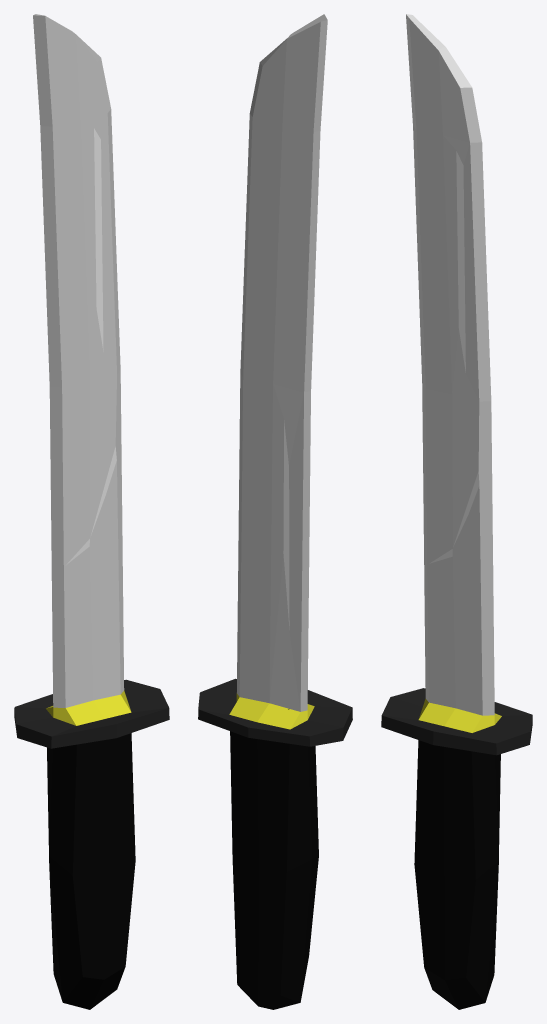
Rendered from Katana.glb.
3 views of the same model, side by side, from view 1: azimuth 30°, elevation 25°; view 2: azimuth 150°, elevation 25°; view 3: azimuth 330°, elevation 25° (orthographic). The views are drawn at different scales.
Parts seen in each view (by area): view 1: Cube; view 2: Cube; view 3: Cube.
Boxes of the visible parts, x1=… form: Cube: x1=14, y1=14, x2=169, y2=1009; Cube: x1=198, y1=14, x2=352, y2=1009; Cube: x1=381, y1=14, x2=532, y2=1009.
Size of the model in its own units: 0.928 by 6.2 by 0.5781.
Materials: 1 (1 with a texture image).
